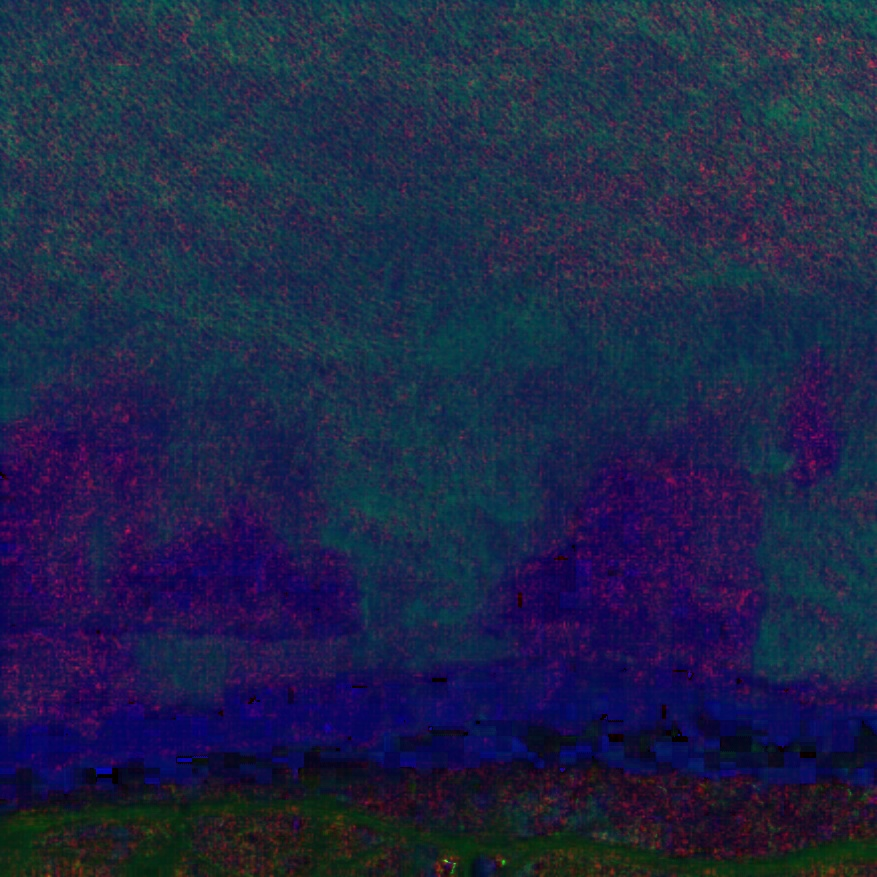rip_current: (285, 394, 590, 683)
